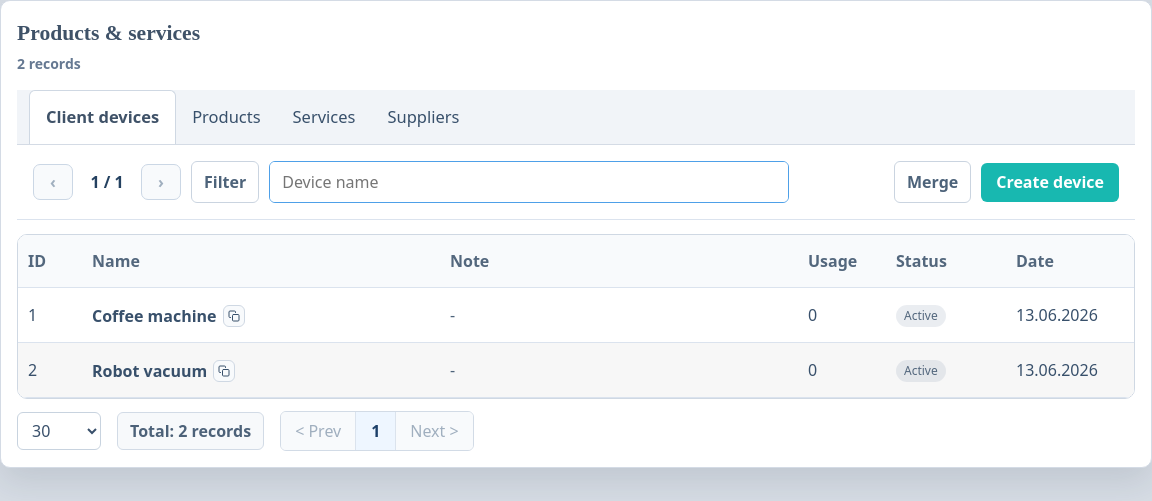
Test: ProductCatalogPanel client devices search › keeps search queries isolated across catalog tabs
The image size is (1152, 501).
In the field with placeholder "Device name": [529, 182] box x1=270 y1=162 x2=788 y2=202, type "Coffee"
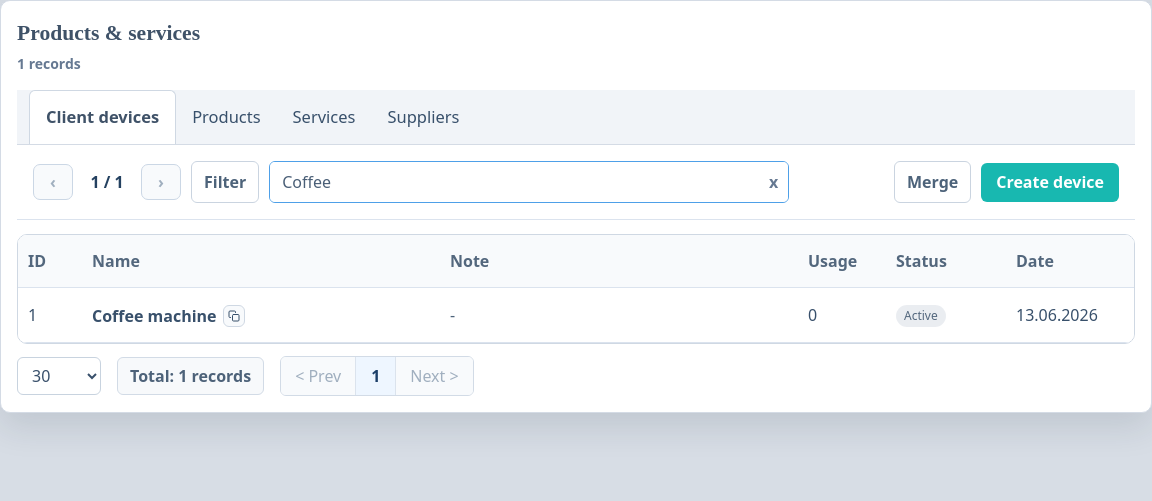
Check: the button "Coffee machine" is shown, box x1=92 y1=304 x2=216 y2=328
Check: the button "Robot vacuum" is gone
Click the button "Products": [226, 117] box x1=176 y1=90 x2=277 y2=144
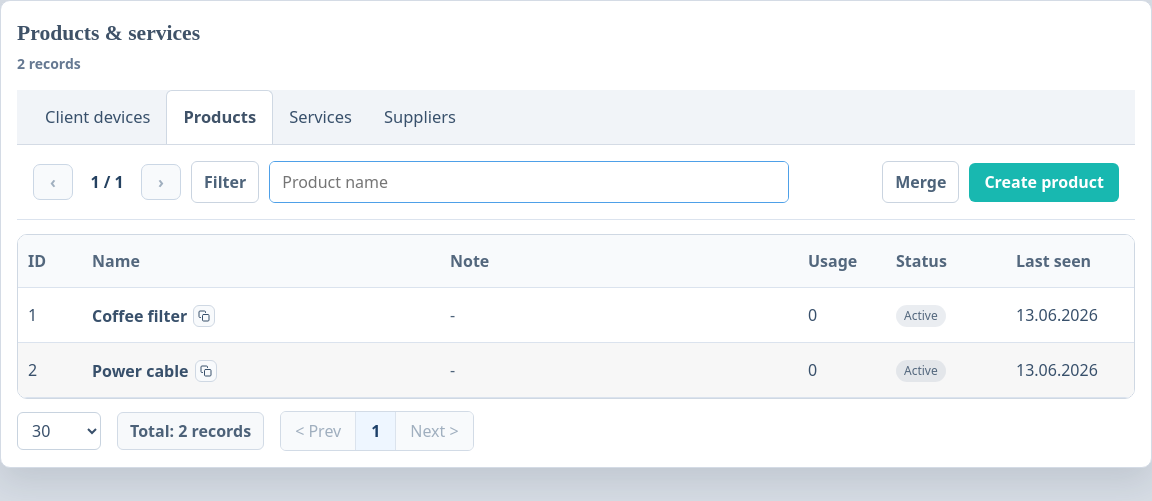
Check: the button "Coffee filter" is shown, box x1=92 y1=304 x2=187 y2=328
Check: the button "Power cable" is shown, box x1=92 y1=358 x2=189 y2=382
